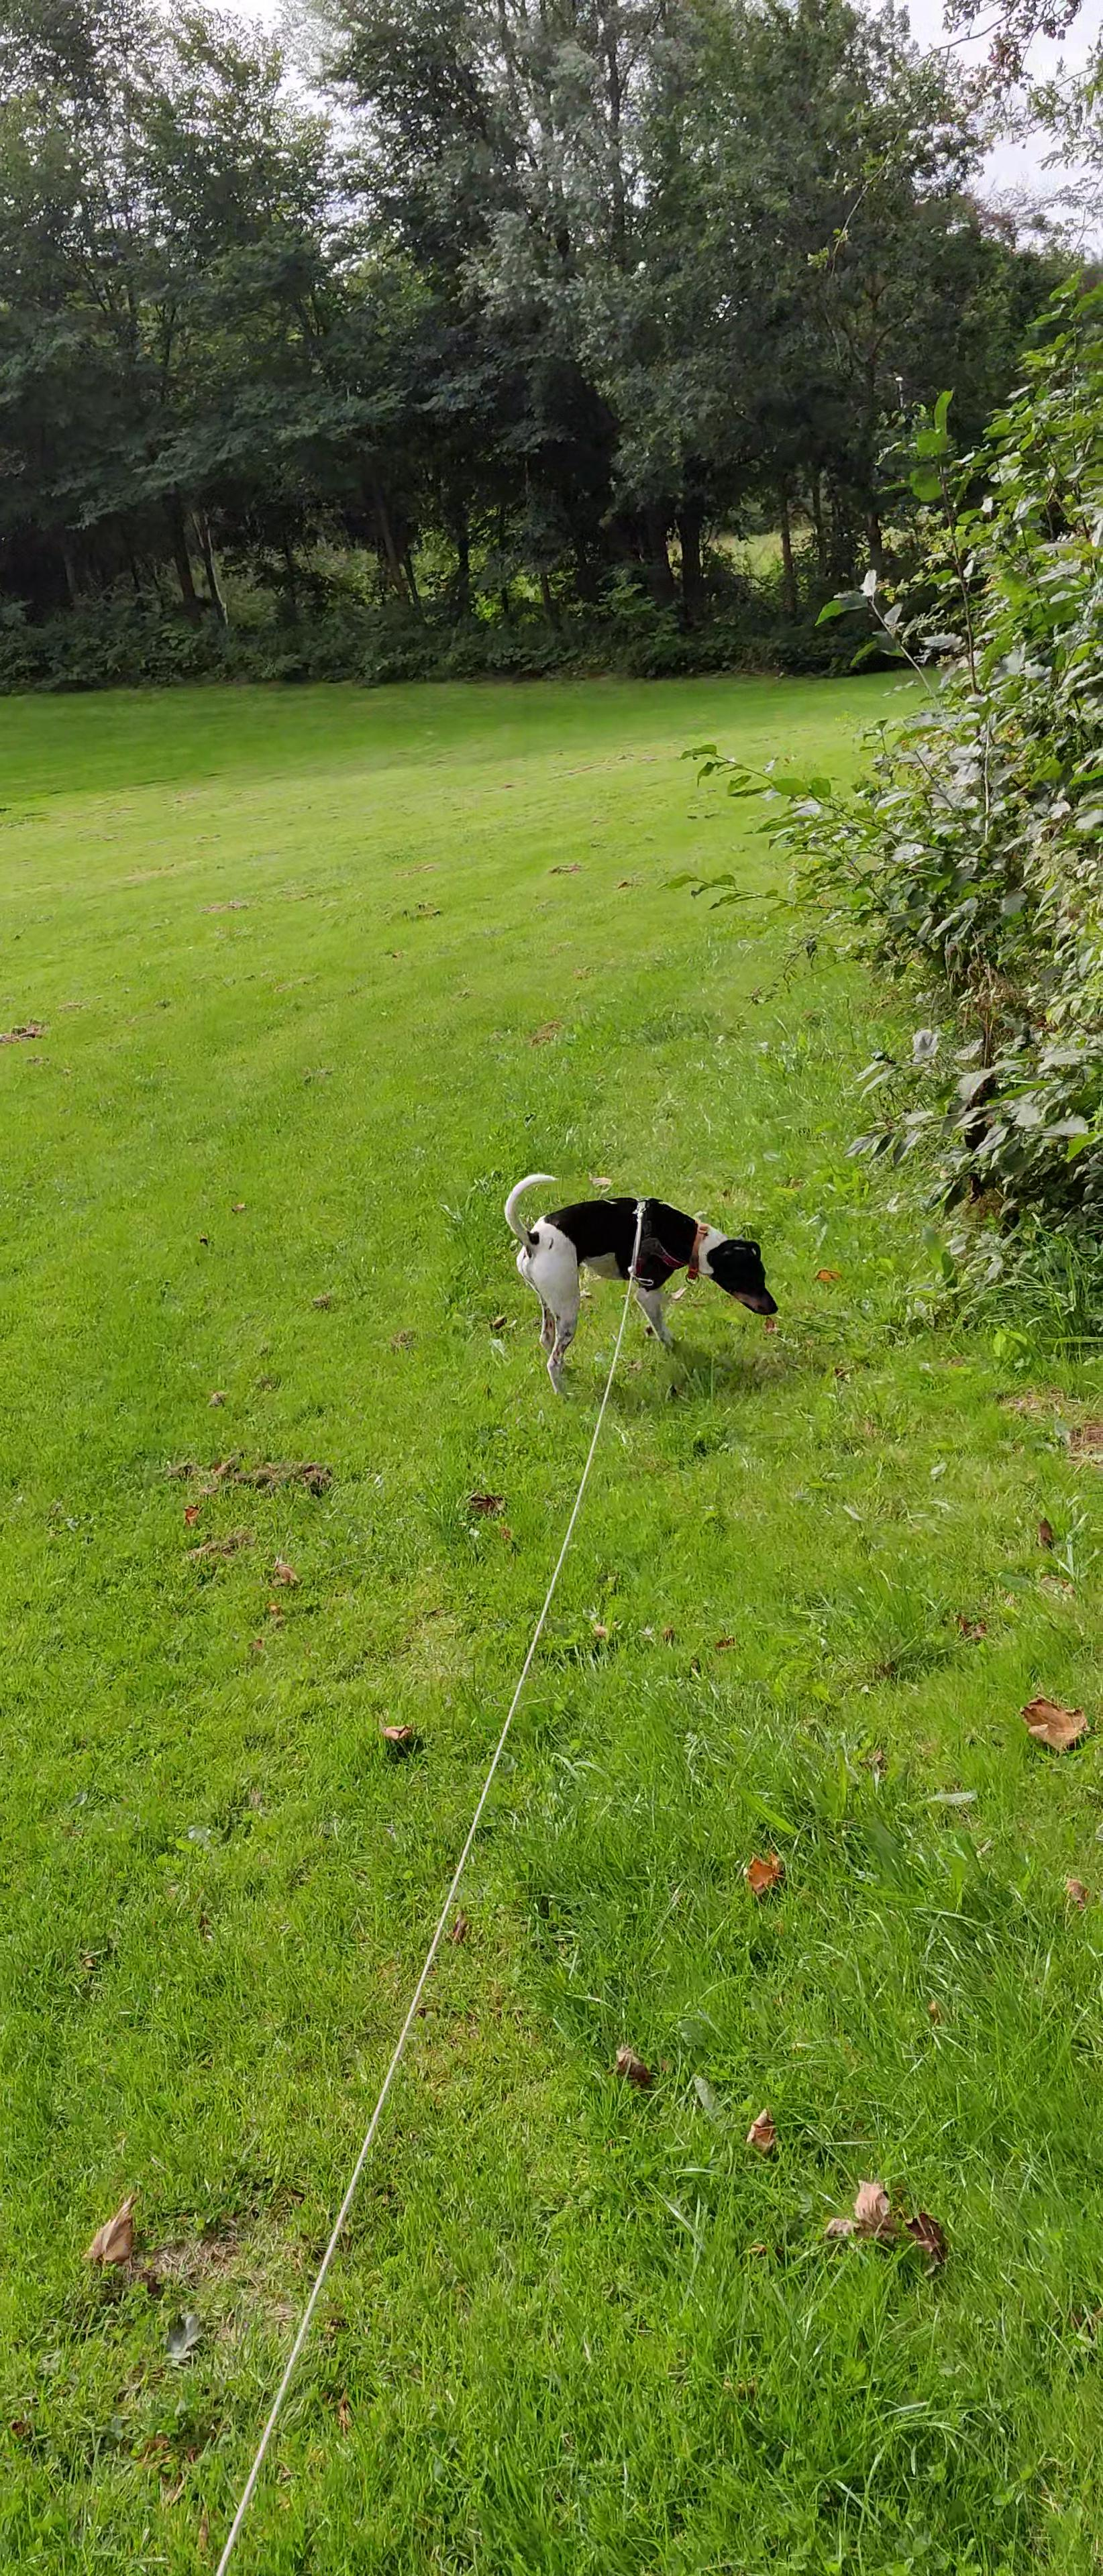Dog: (500, 1166, 784, 1398)
